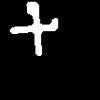single_crochet: (10, 2, 57, 55)
